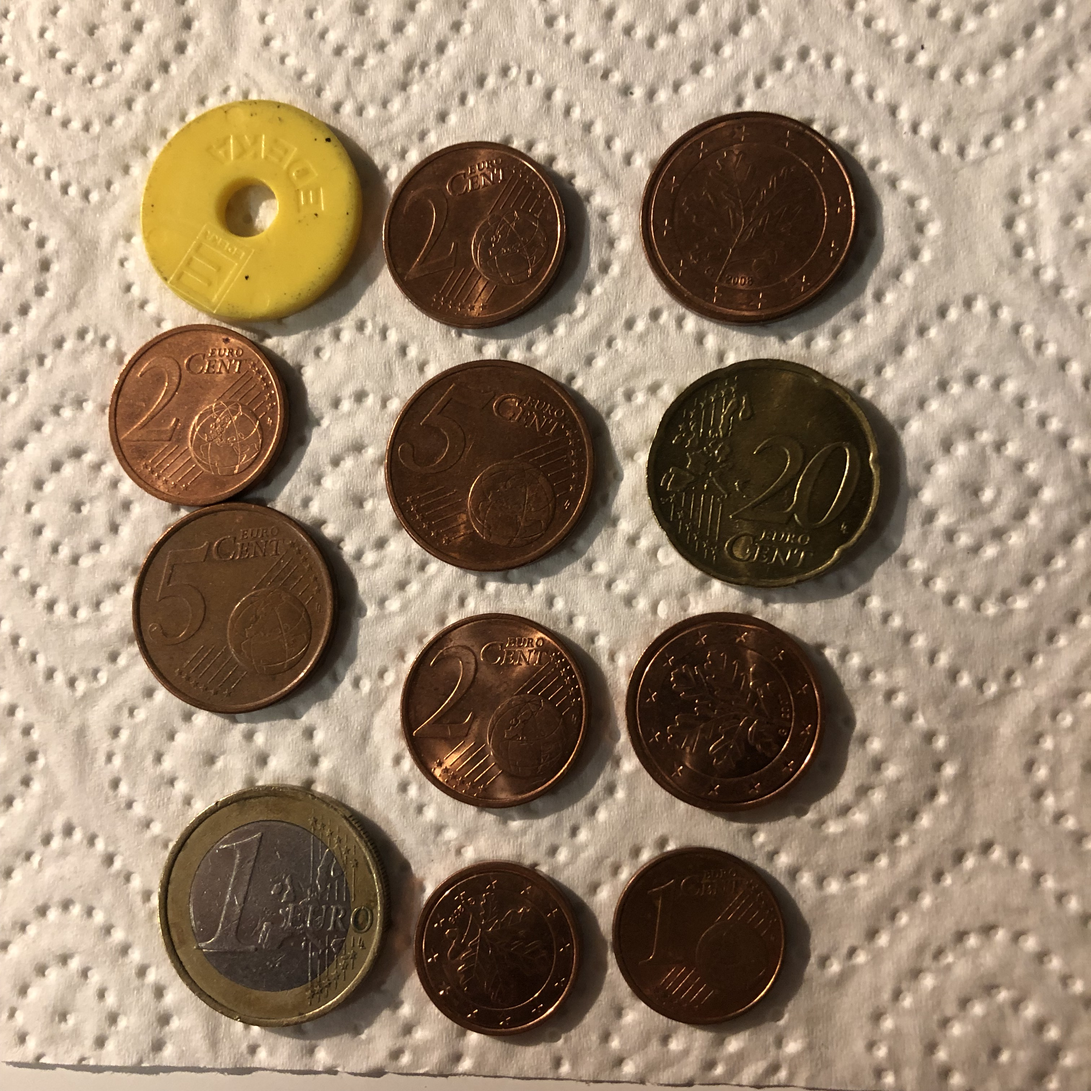1 cent: (608, 844, 787, 1024), (413, 859, 582, 1039)
1 euro: (160, 781, 386, 1032)
2 cent: (621, 610, 827, 809), (398, 612, 597, 808), (379, 138, 575, 331), (105, 322, 292, 507)
20 cent: (646, 356, 881, 587)
5 cent: (639, 115, 861, 332), (131, 501, 344, 718), (381, 356, 593, 573)
